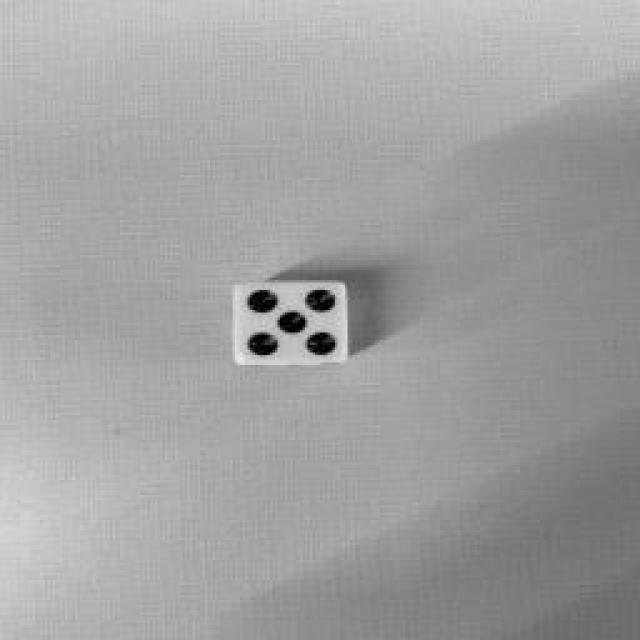dice_5: (236, 283, 346, 365)
